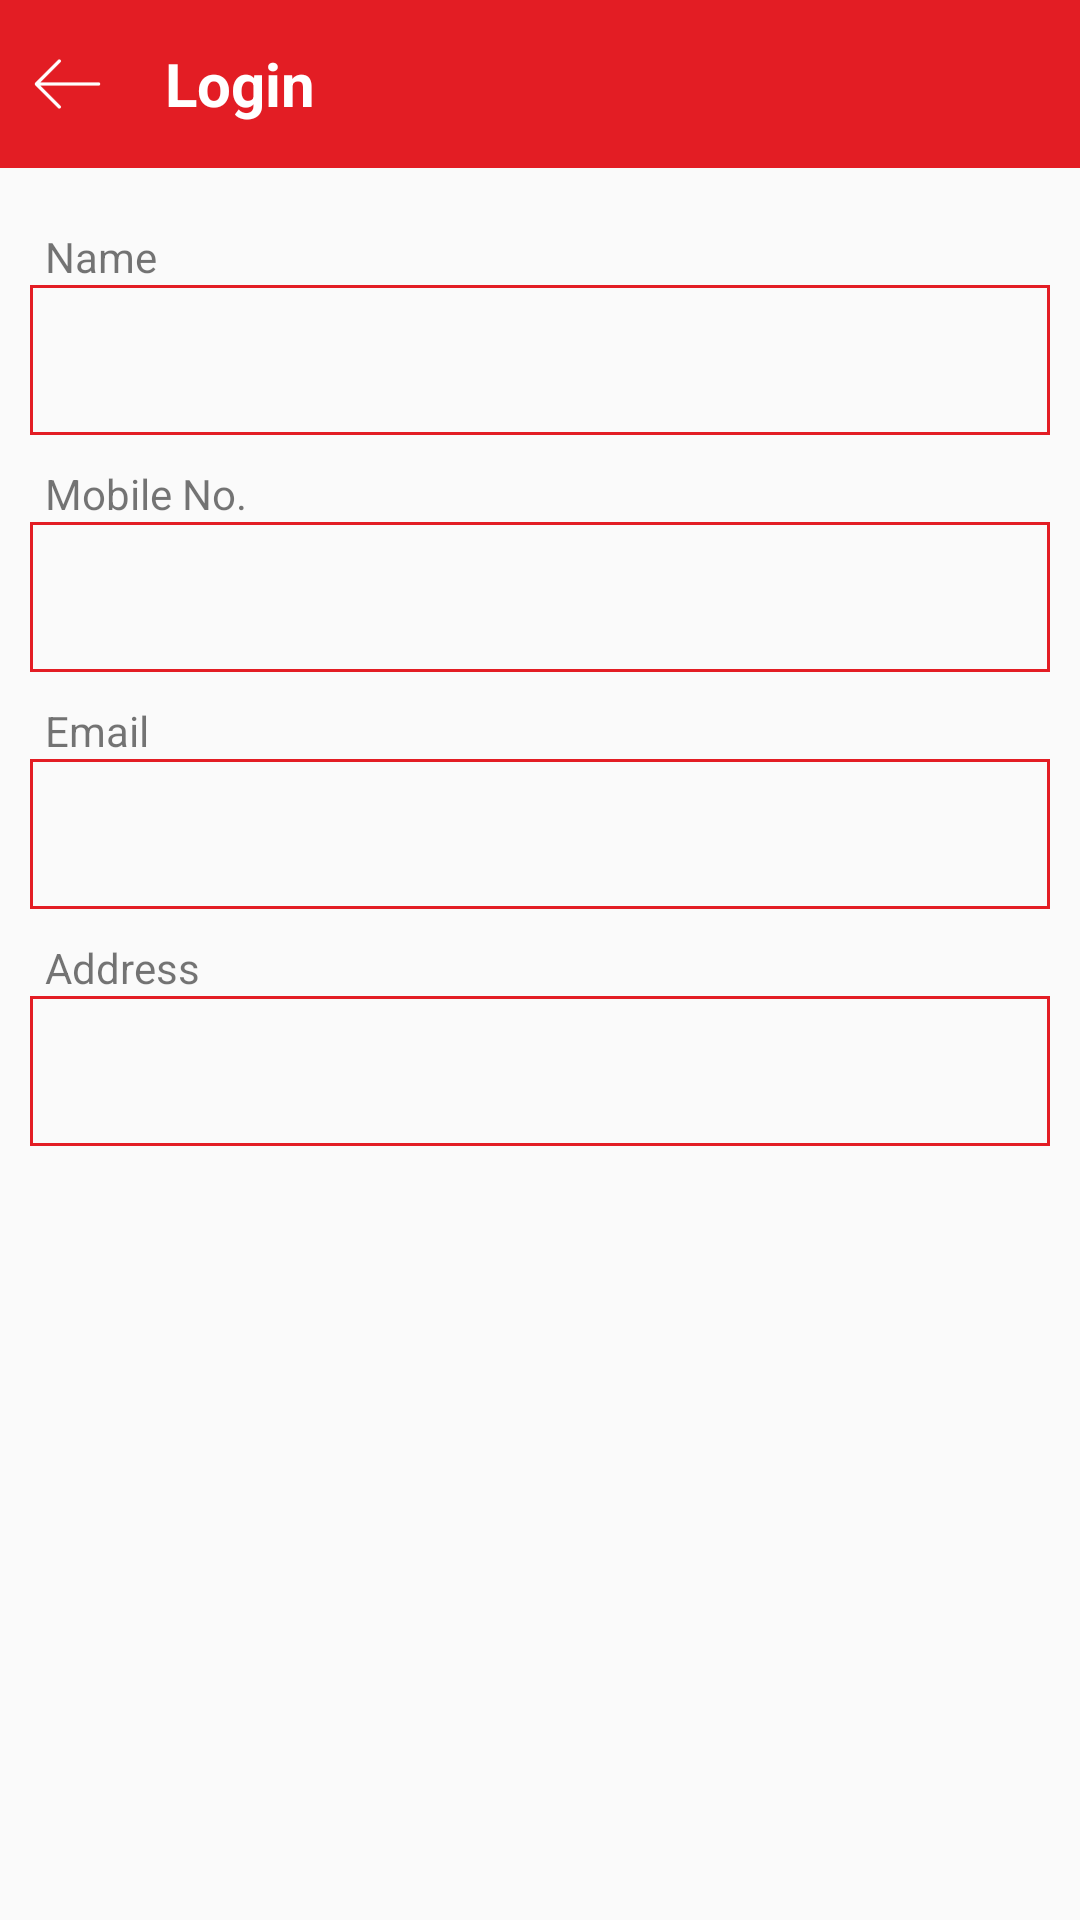

Screen size 1080*1920. Icon name, then its center in pixels as (x=x, y=y):
back arrow: (x=67, y=84)
